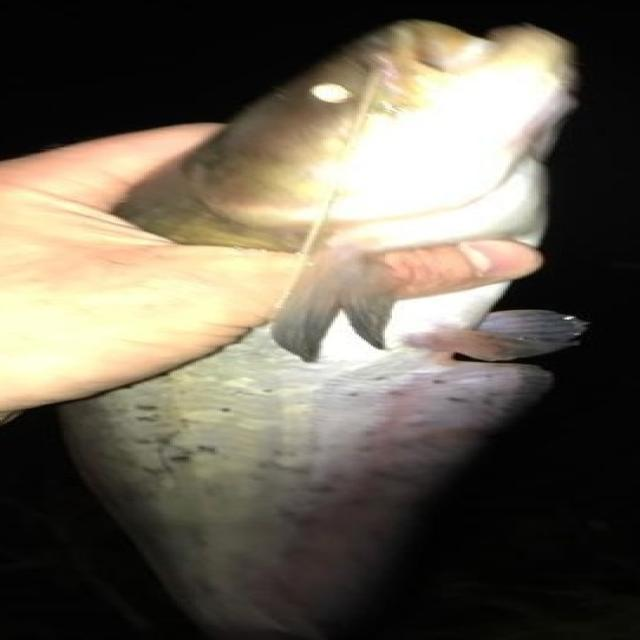Catfish: (94, 4, 608, 640)
